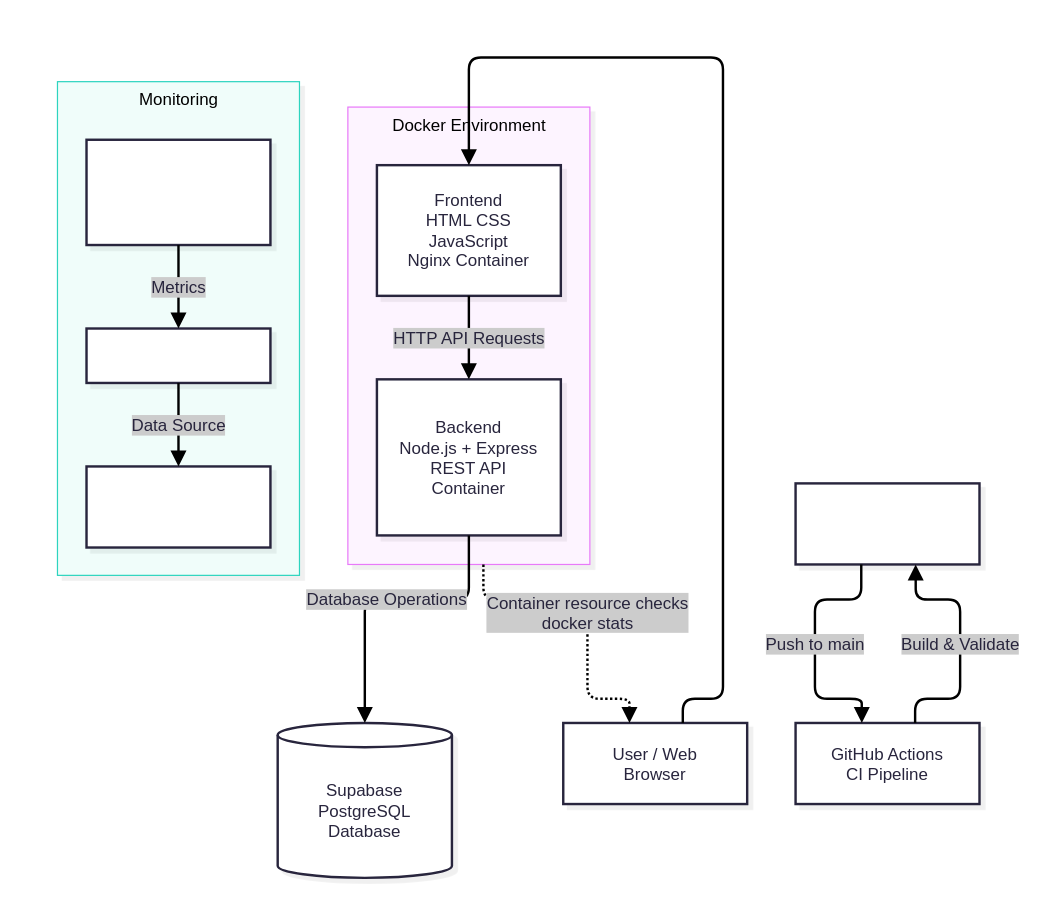
Image size: 1039x904. Some labels were removed from this diagram. Each missing label, with the centre of its shape:
cAdvisor Host-level Metrics: (180,194)
GitHub Repository: (889,526)
Grafana Dashboard: (180,509)
Prometheus: (180,357)
